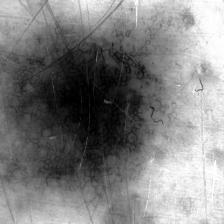Benign Marking or Mole: (1, 11, 174, 180), (106, 193, 158, 224)
